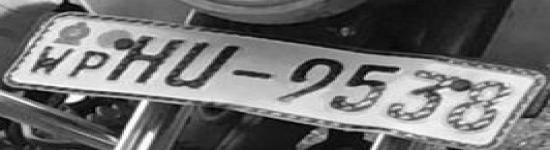-: (224, 63, 282, 85)
3: (373, 63, 476, 132)
5: (315, 58, 412, 122)
8: (433, 74, 526, 141)
9: (264, 48, 356, 111)
H: (93, 30, 200, 89)
P: (61, 46, 121, 83)
U: (148, 35, 254, 97)
W: (29, 42, 84, 76)
